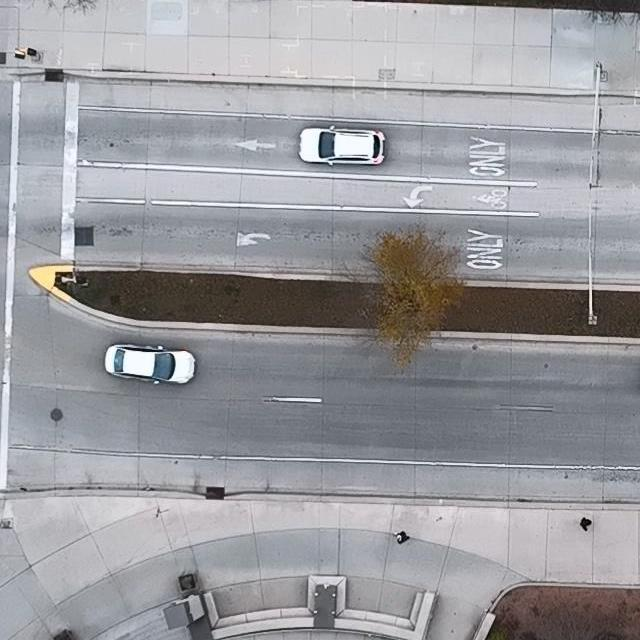car: (104, 342, 198, 385), (299, 125, 387, 168)
